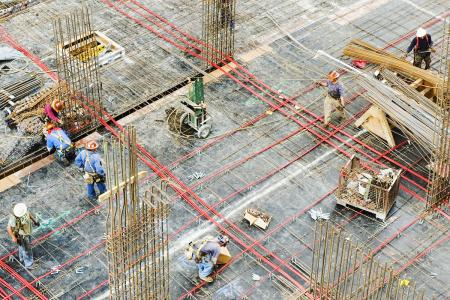helmet: (12, 201, 29, 221), (50, 97, 67, 116), (83, 137, 99, 155), (416, 24, 429, 42), (42, 121, 58, 135), (217, 231, 230, 248), (328, 68, 341, 85)
